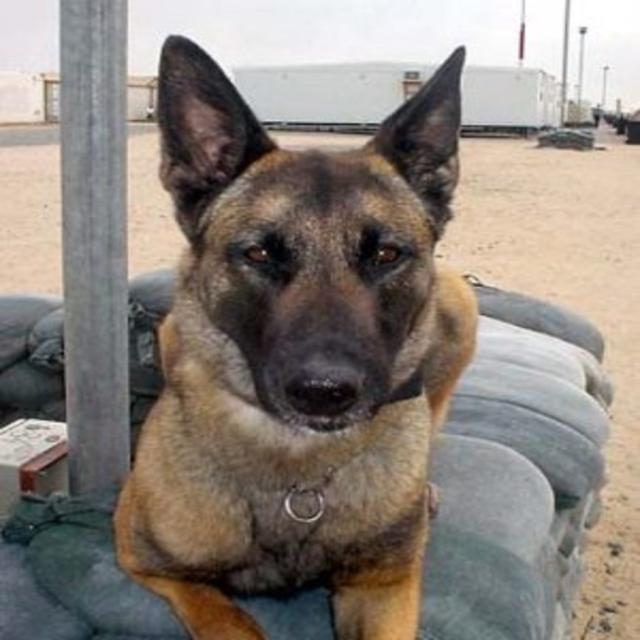Dog: (112, 35, 480, 640)
